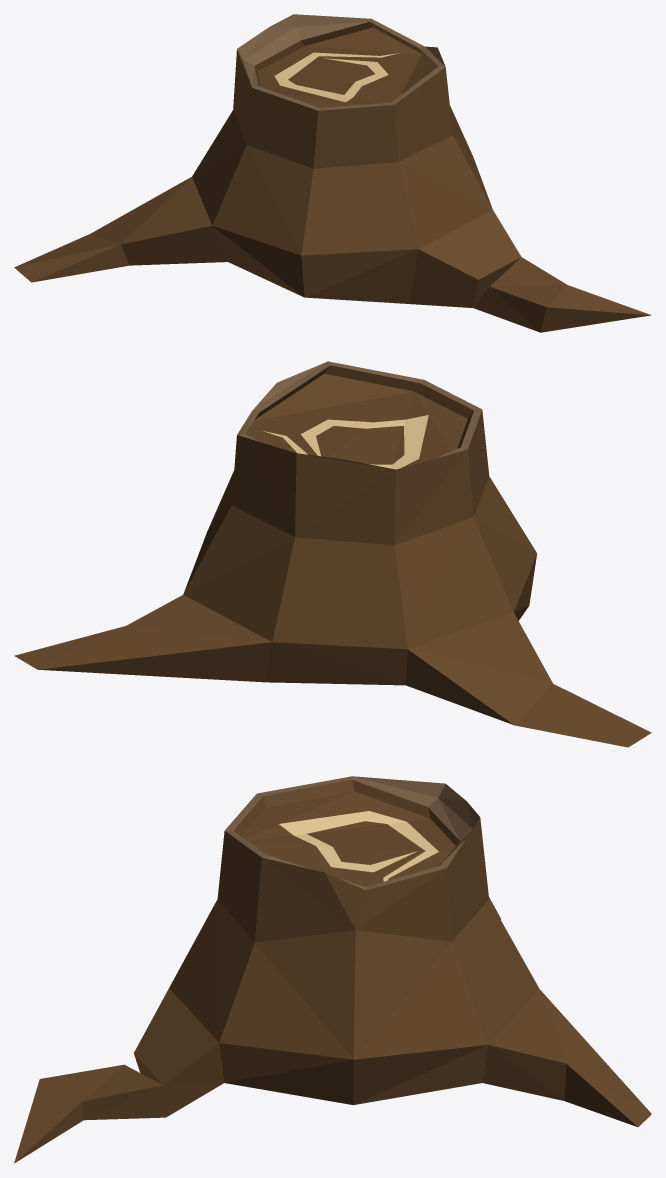
Rendered from Trunk_3.fbx.
3 renders of one model, top to bottom at view 1: azimuth 30°, elevation 25°; view 2: azimuth 150°, elevation 25°; view 3: azimuth 270°, elevation 25°, orthographic. The views are drawn at different scales.
Visible parts, largest first — view 1: M_Trunk 2; view 2: M_Trunk 2; view 3: M_Trunk 2.
Boxes of the visible parts, box(x1,y1,x2,y2) form: M_Trunk 2: box(14, 14, 651, 332); M_Trunk 2: box(14, 361, 651, 747); M_Trunk 2: box(14, 776, 651, 1163).
Bounding box in the file's own units: 0.3357 × 0.1447 × 0.3313.
Materials: 1 (1 with a texture image).
